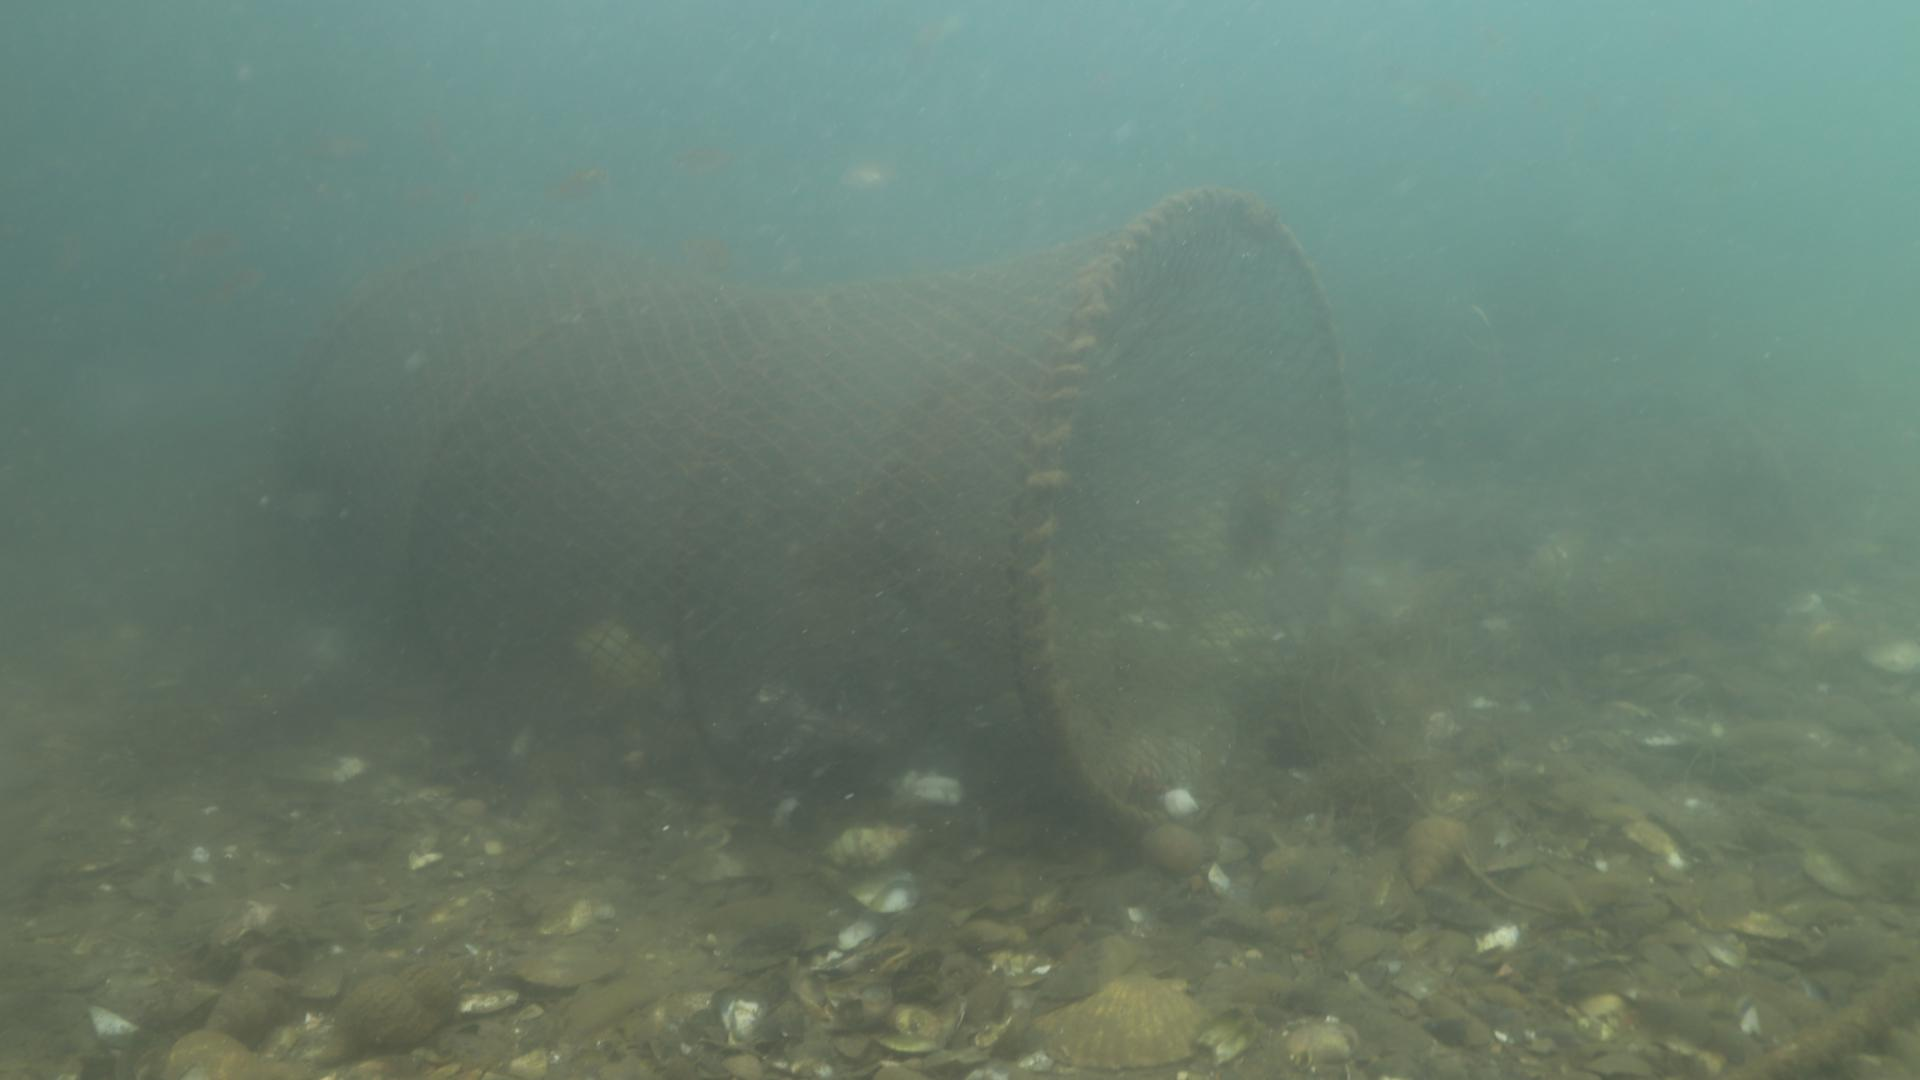spring fish trap: (282, 189, 1360, 843)
